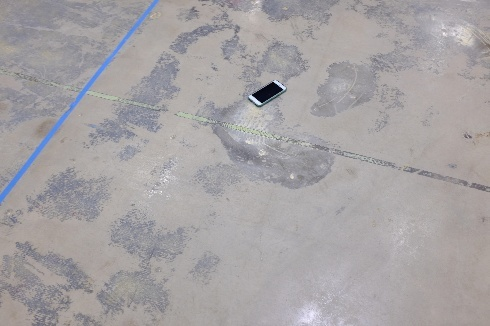phone: (242, 76, 291, 108)
